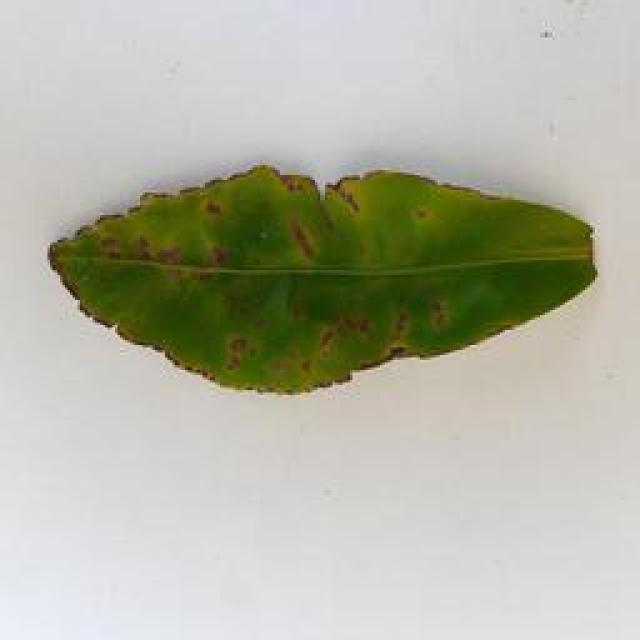Helopeltis: (38, 166, 603, 399)
